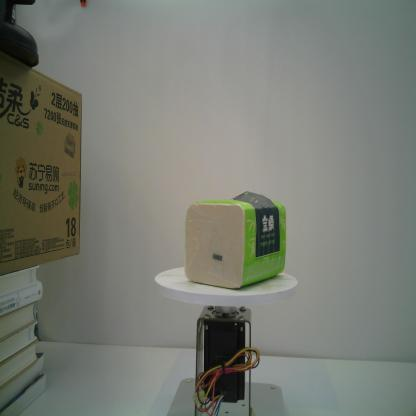Tissue: (181, 188, 286, 291)
